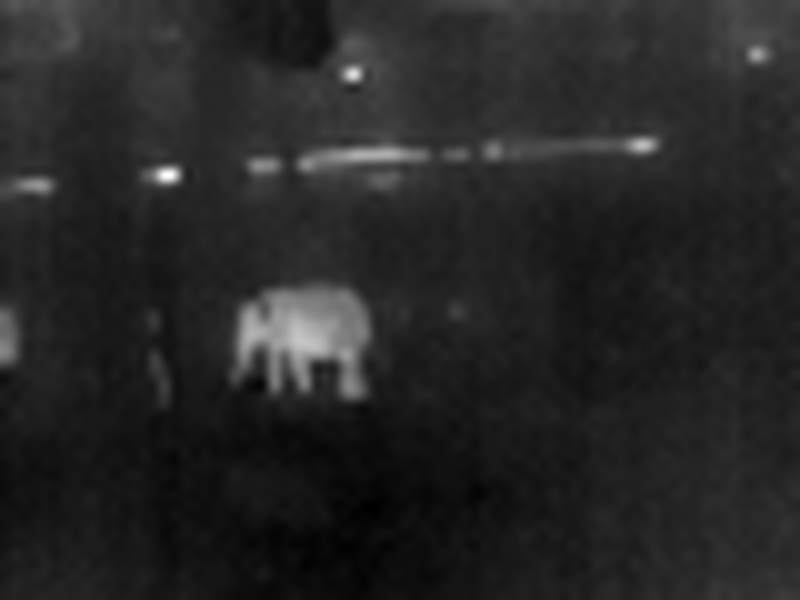elephant: (219, 283, 377, 420)
